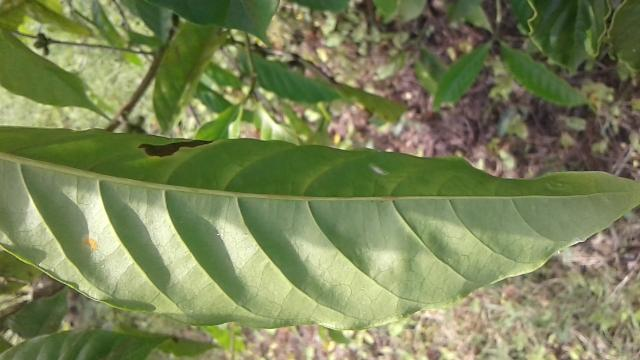red_spider_mite: (0, 124, 640, 336)
